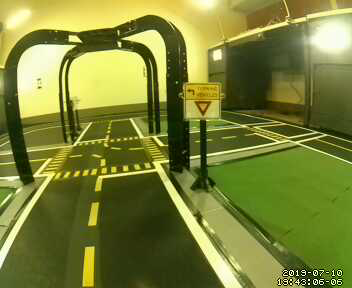Turn Yield: (183, 82, 221, 119)
